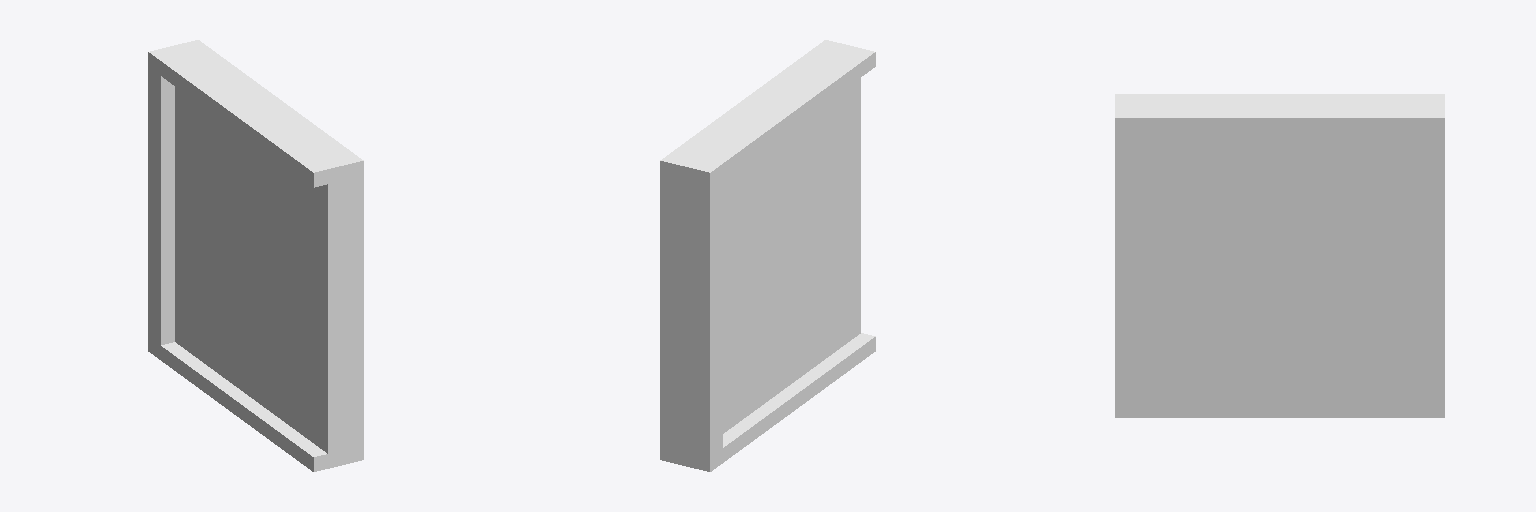
File: saloon-13.obj
The picture shows the model from 3 angles: view 1: azimuth 30°, elevation 25°; view 2: azimuth 150°, elevation 25°; view 3: azimuth 270°, elevation 25°; orthographic projection.
Parts seen in each view (by area): view 1: object 1; view 2: object 1; view 3: object 1.
Boxes of the visible parts, <box> form: object 1: <box>148,40,363,471</box>; object 1: <box>660,40,875,471</box>; object 1: <box>1115,94,1444,417</box>.
Size of the model in its own units: 0.7 by 4 by 4.